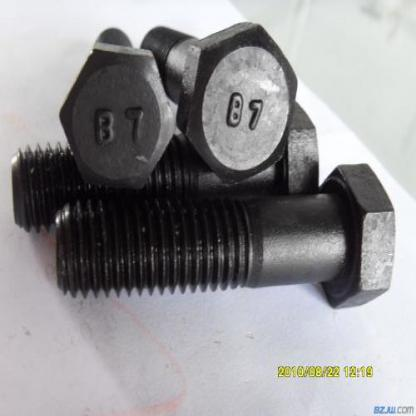FOD: (52, 159, 397, 314)
